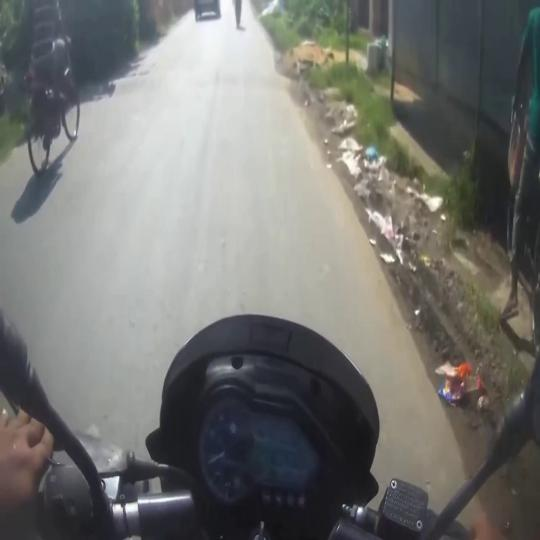Speed Bump: (81, 65, 298, 102)
